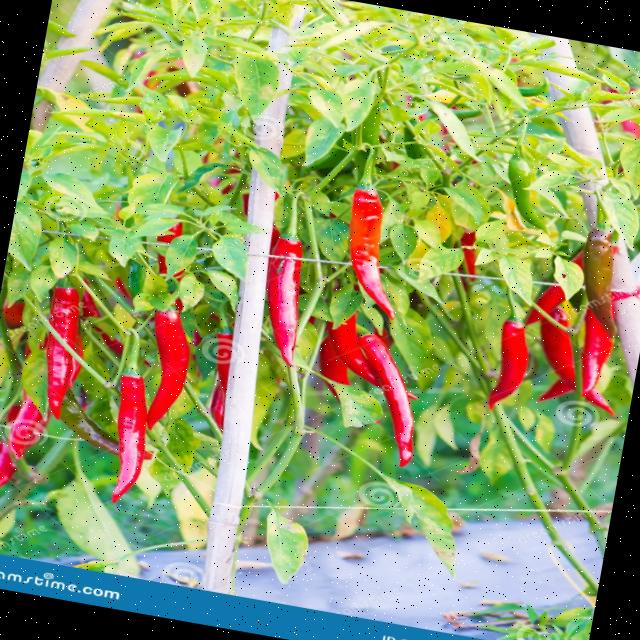chili: (357, 333, 414, 466), (266, 193, 303, 365), (348, 188, 394, 318), (146, 309, 190, 428), (110, 373, 148, 502), (327, 313, 381, 386), (487, 319, 529, 408), (537, 306, 576, 400), (580, 309, 614, 396), (45, 335, 73, 418), (49, 286, 79, 347), (318, 337, 349, 384)
